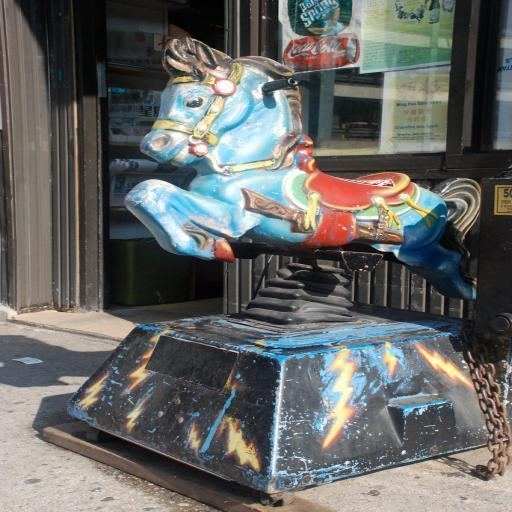horse: (120, 34, 484, 302)
